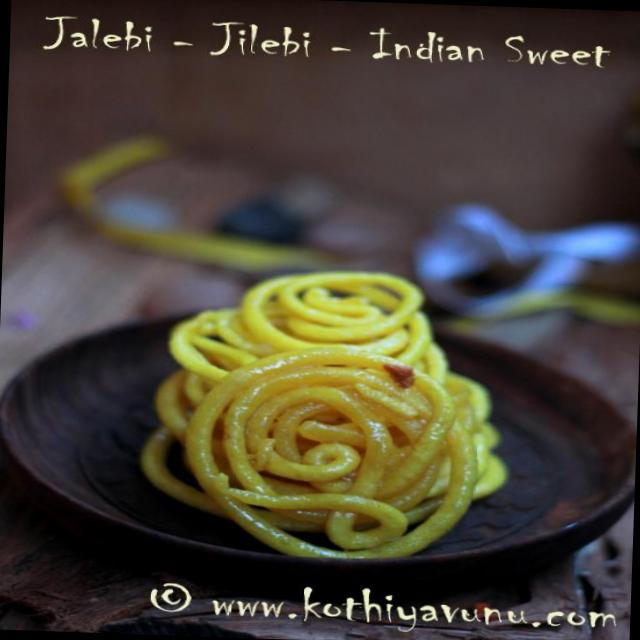jalebi: (122, 266, 500, 532)
